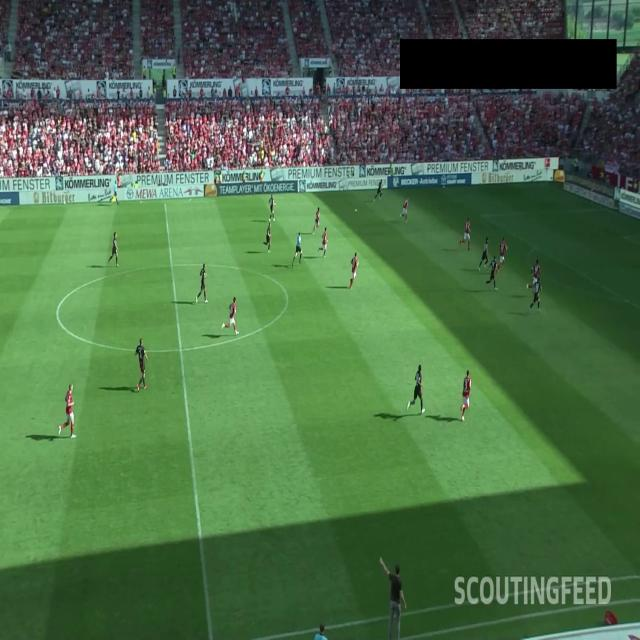ball: (354, 209, 358, 212)
team1: (133, 338, 149, 394), (407, 365, 424, 415), (529, 276, 543, 314), (485, 256, 499, 290), (197, 263, 208, 300), (109, 232, 121, 264), (262, 221, 272, 254), (480, 237, 489, 268), (268, 195, 276, 223), (375, 179, 383, 202)
team2: (60, 383, 75, 438), (223, 296, 238, 333), (460, 372, 471, 422), (526, 256, 541, 292), (347, 252, 359, 289), (459, 220, 472, 250), (497, 236, 508, 268), (319, 227, 328, 256), (312, 207, 320, 234), (402, 198, 410, 220)
